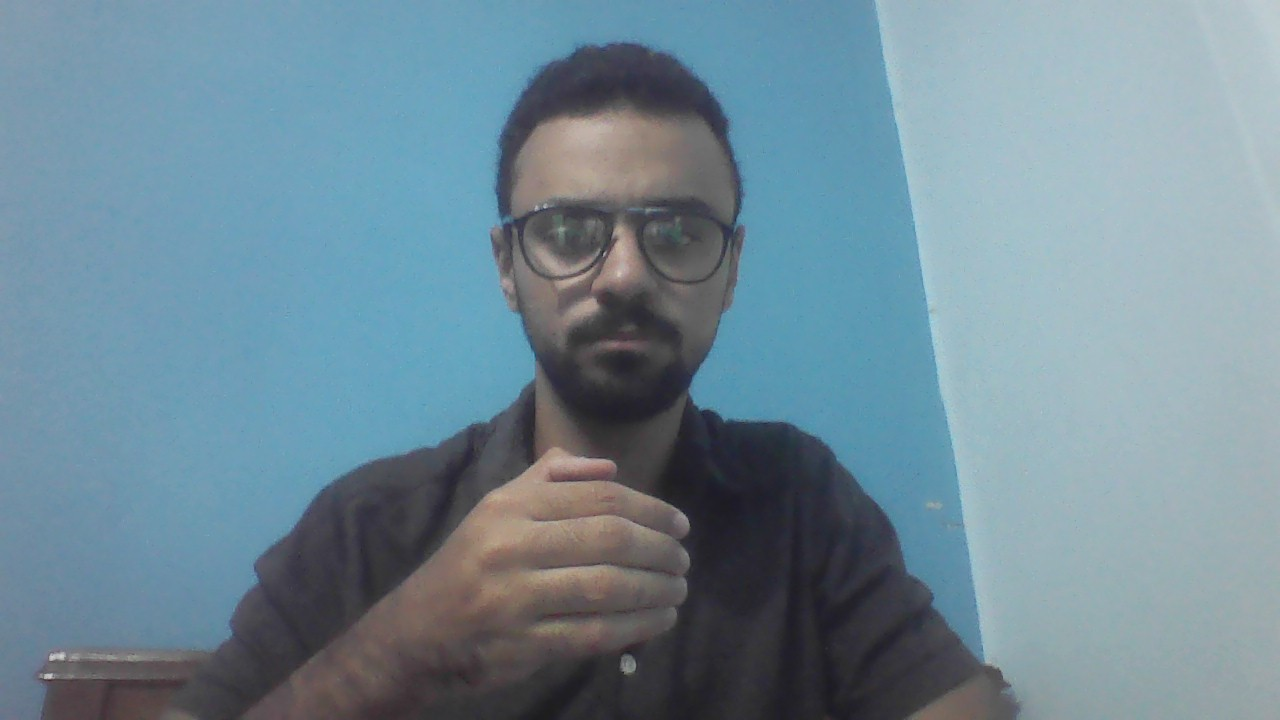drink: (388, 449, 691, 707)
